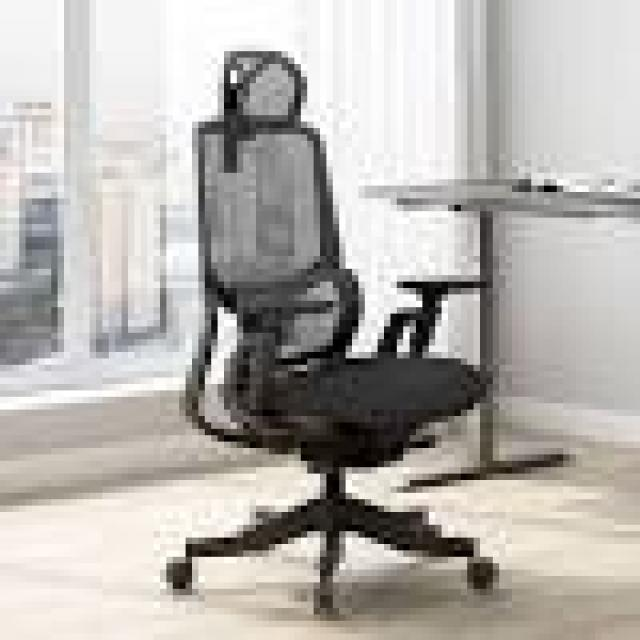chair: (113, 26, 534, 640)
